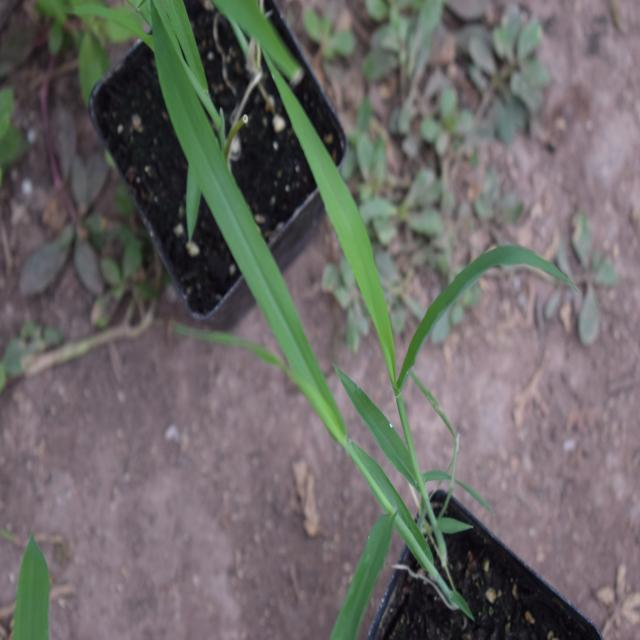crabgrass: (166, 92, 494, 592)
